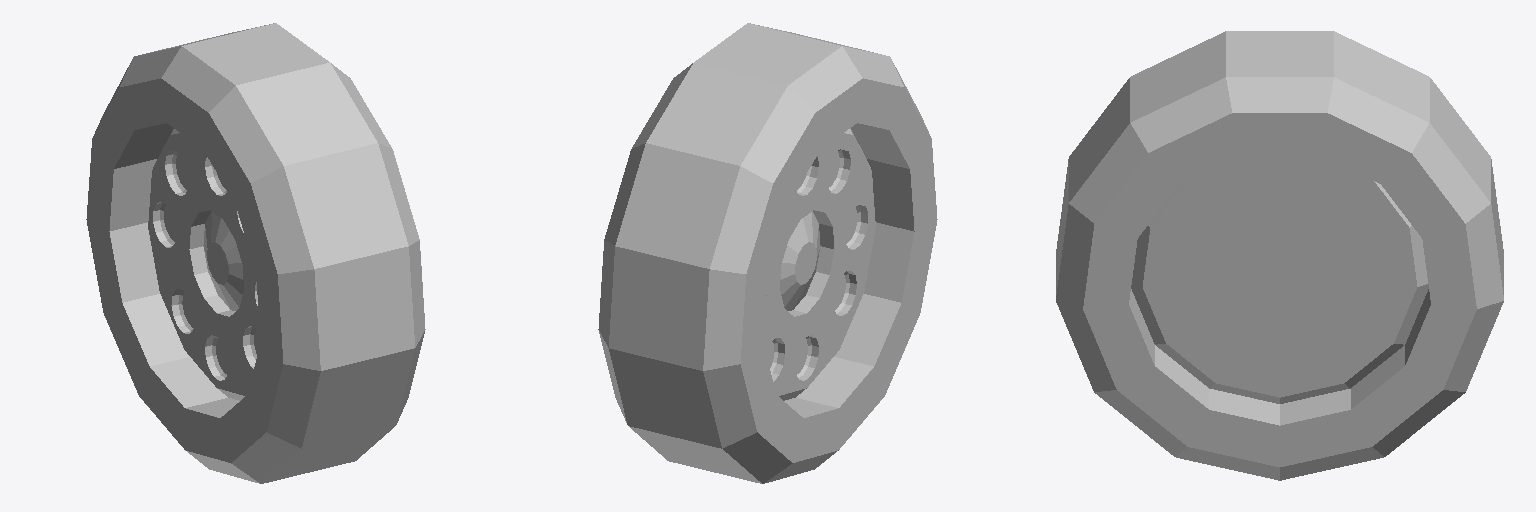
The model's file is llanta.obj.
3 renders of one model, left to right at view 1: azimuth 30°, elevation 25°; view 2: azimuth 150°, elevation 25°; view 3: azimuth 270°, elevation 25°, orthographic.
Parts seen in each view (by area): view 1: Cylinder_4_Material; view 2: Cylinder_4_Material; view 3: Cylinder_4_Material.
Part boxes in pixels (x1,y1,x2,y2): Cylinder_4_Material: (86,23,425,483); Cylinder_4_Material: (598,23,937,483); Cylinder_4_Material: (1056,31,1503,480).
Bounding box in the file's own units: 0.2956 × 0.8025 × 0.8084.